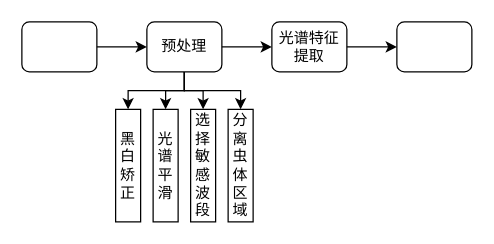
This 494x244 diagram has some shape labels left out. Here are the shapes that lost their labels. From the top down, the box of each, then its label:
(21, 21, 97, 72): 采集
(396, 21, 472, 72): 分类判定
